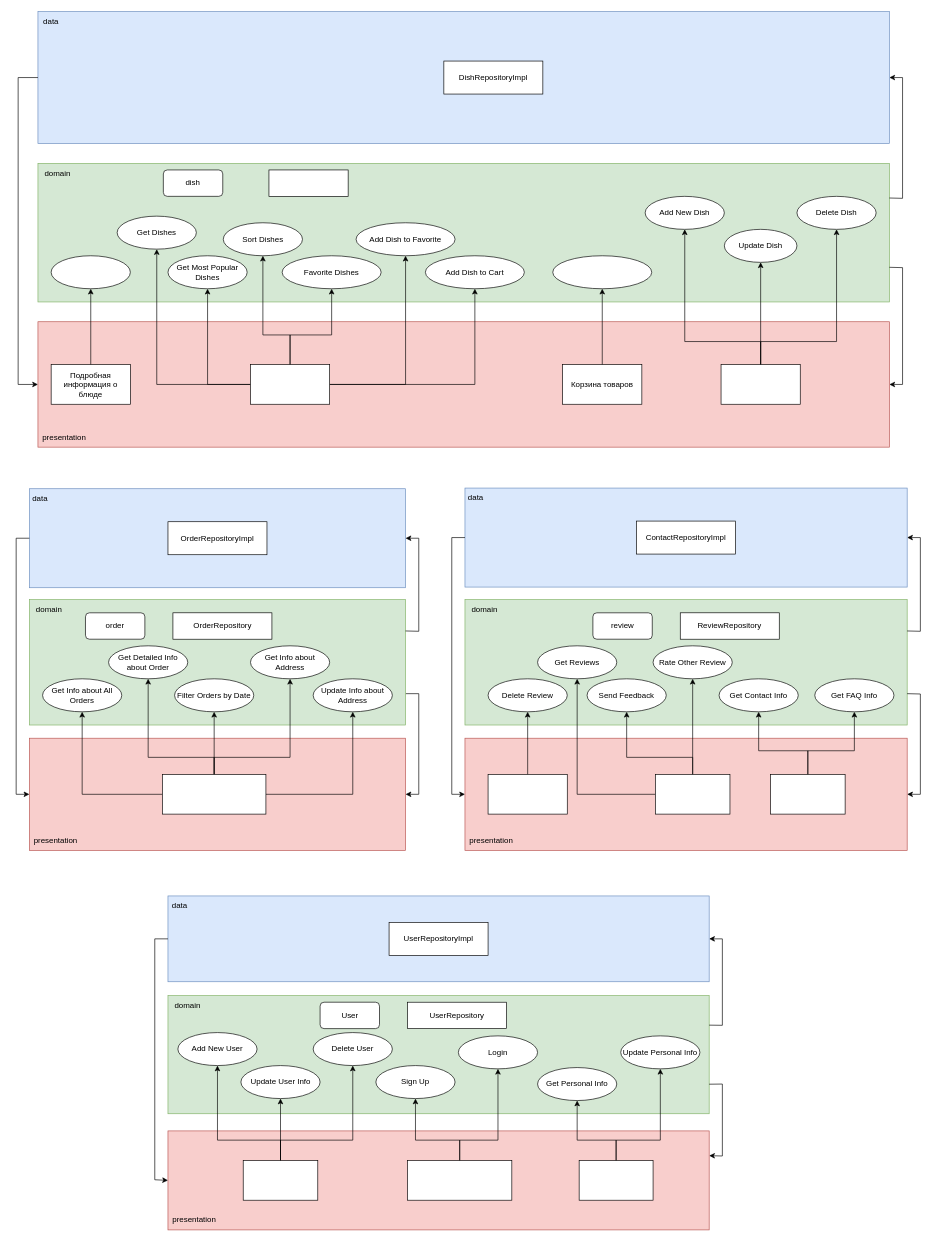
The diagram is 937 pixels wide and 1241 high, and some of its shapes have lost their labels. The shapes that lost their labels are listed below. From the top down, each one's centre as x and y in pixels, then its label:
At pixel 308 182: "DishRepository".
At pixel 90 272: "Get Detailed Info About Dish".
At pixel 602 272: "Cart Dishes".
At pixel 290 384: "Каталог блюд".
At pixel 760 384: "Админ-панель с товарами".
At pixel 214 794: "Список заказов и информация по адресу доставки".
At pixel 527 794: "Админ-панель с отзывами".
At pixel 692 794: "Список всех отзывов".
At pixel 807 794: "Страница с контактной информацией".
At pixel 280 1180: "Админ-панель со всеми пользователями".
At pixel 459 1180: "Страница авторизации/регистрации".
At pixel 615 1180: "Личный кабинет пользователя".
